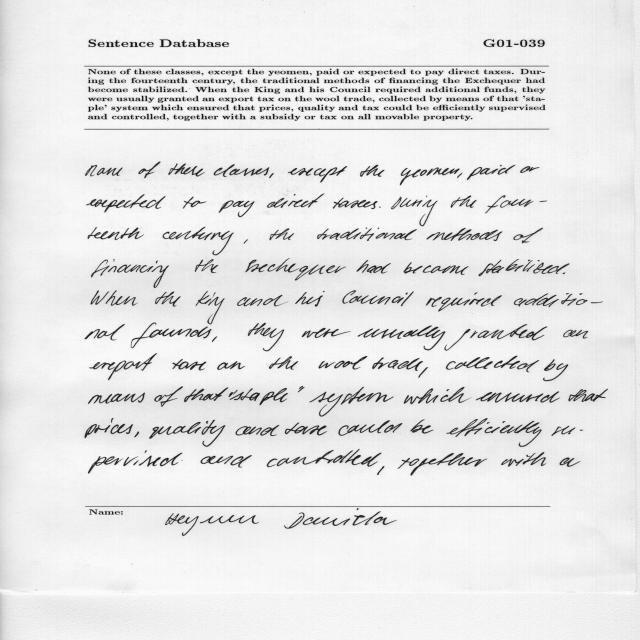word: (446, 418, 542, 447), (445, 324, 548, 351), (310, 387, 394, 417), (245, 258, 346, 281), (91, 259, 169, 288), (358, 326, 446, 351), (89, 451, 182, 474), (267, 450, 382, 468), (149, 420, 225, 447), (398, 453, 487, 476), (131, 323, 211, 348), (163, 227, 234, 255), (90, 354, 157, 380), (479, 259, 570, 276), (446, 356, 539, 372), (426, 293, 502, 312), (87, 195, 166, 213), (391, 196, 438, 226), (317, 228, 417, 241), (514, 293, 603, 307), (404, 387, 471, 404), (485, 195, 547, 213), (342, 291, 414, 306), (400, 168, 459, 186), (339, 420, 403, 436), (248, 323, 284, 351), (476, 391, 560, 403), (288, 166, 347, 183), (427, 228, 503, 241), (196, 291, 225, 325), (230, 388, 288, 405), (85, 418, 133, 438), (404, 262, 469, 275), (267, 194, 324, 208), (214, 164, 270, 177), (88, 227, 144, 240), (467, 165, 515, 180), (372, 357, 423, 371), (91, 291, 137, 306), (319, 356, 368, 370), (501, 452, 546, 467), (201, 455, 252, 468), (184, 388, 228, 403), (85, 324, 125, 340), (88, 393, 145, 404), (154, 386, 183, 407), (219, 201, 254, 218), (237, 295, 288, 306), (543, 359, 568, 381), (285, 423, 327, 436), (568, 389, 608, 402), (356, 260, 391, 274), (302, 328, 351, 338), (333, 198, 377, 209), (236, 425, 280, 436), (168, 164, 205, 177), (295, 291, 325, 307), (513, 228, 543, 243), (86, 165, 123, 176), (269, 356, 298, 370), (155, 292, 181, 307), (173, 359, 207, 370), (139, 162, 161, 178), (411, 419, 434, 434), (451, 195, 477, 208), (195, 259, 218, 273), (552, 426, 584, 436), (360, 165, 385, 177), (183, 197, 207, 209), (270, 229, 294, 241), (217, 361, 245, 370), (563, 330, 588, 339), (560, 457, 581, 467), (520, 166, 540, 173), (418, 367, 428, 378), (229, 390, 238, 397), (377, 466, 384, 475), (298, 387, 305, 393), (212, 336, 217, 342), (134, 432, 139, 438), (269, 173, 274, 178), (458, 173, 463, 178), (244, 240, 248, 244), (563, 273, 566, 274), (379, 207, 381, 208)
